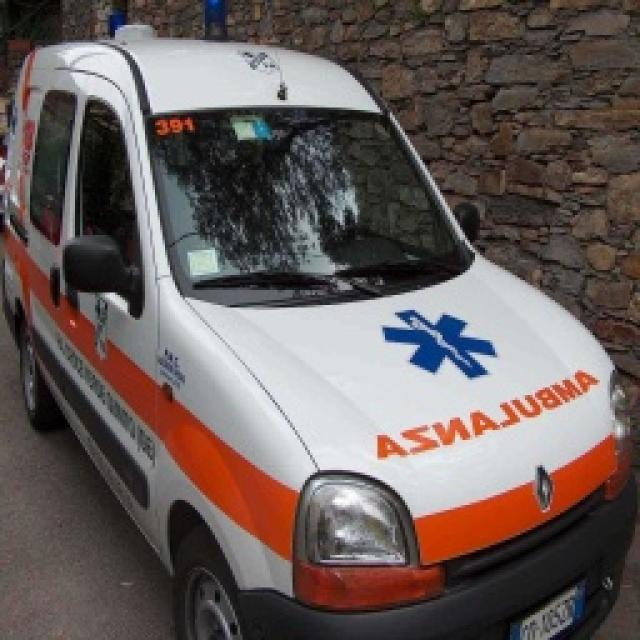emergency-vehicle: (10, 17, 630, 640)
